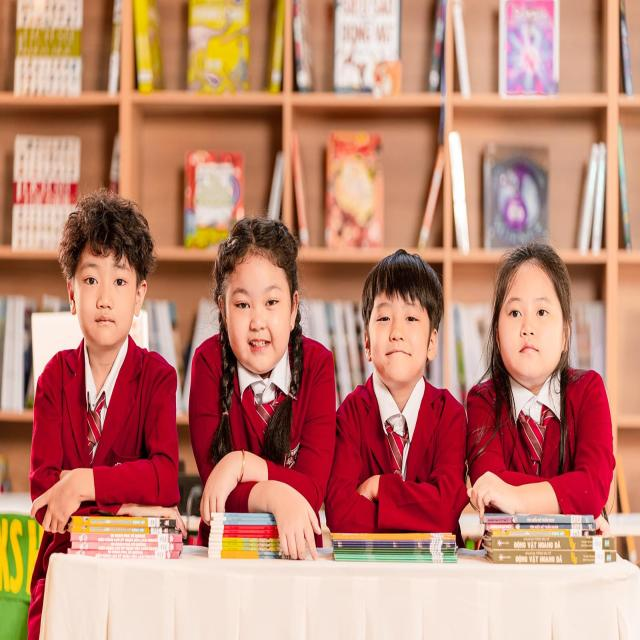Nonhelmet: (50, 174, 159, 360), (208, 214, 306, 392), (485, 228, 579, 394), (352, 244, 448, 394)
